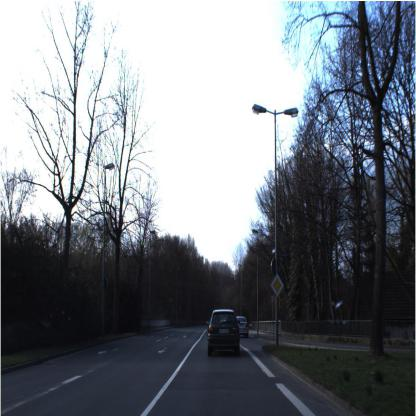other: (268, 273, 286, 302)
